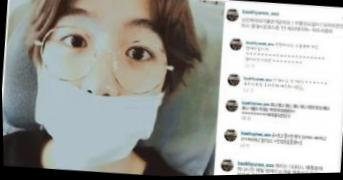WRONG: (30, 3, 174, 158)
